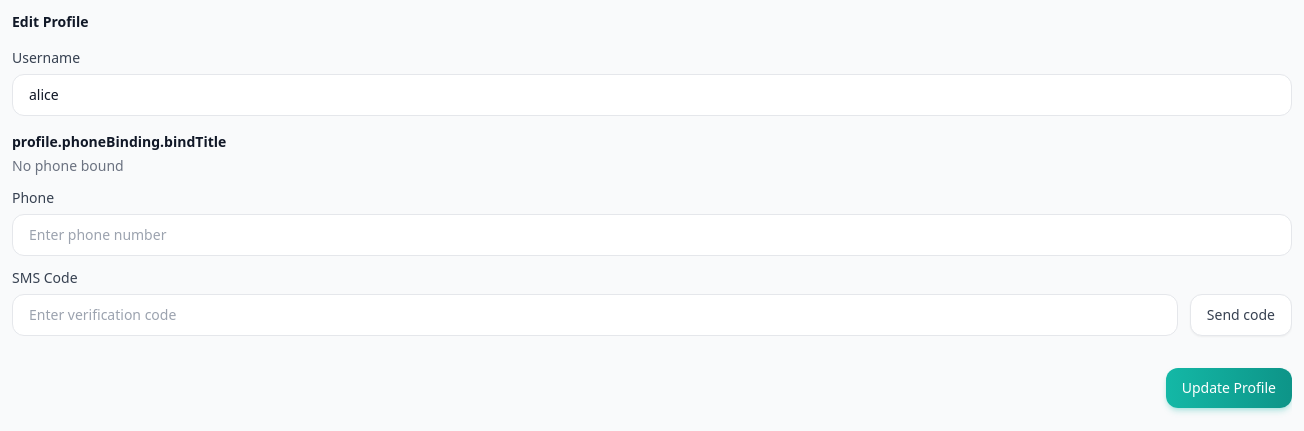
Scenario: ProfileEditForm › starts a 60 second cooldown after sending phone binding code successfully
The width and height of the screenshot is (1304, 431).
Type "13800138000" into the field labelled "Phone" at (652, 235), box x1=12 y1=214 x2=1292 y2=256
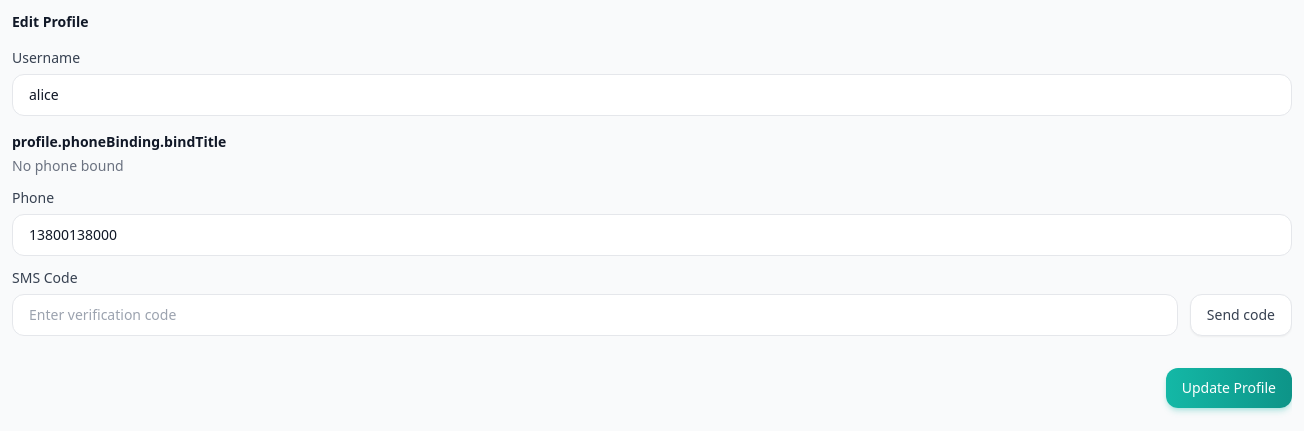
Click the button with test id "profile-phone-send-code" at (1241, 315), box x1=1190 y1=294 x2=1292 y2=336
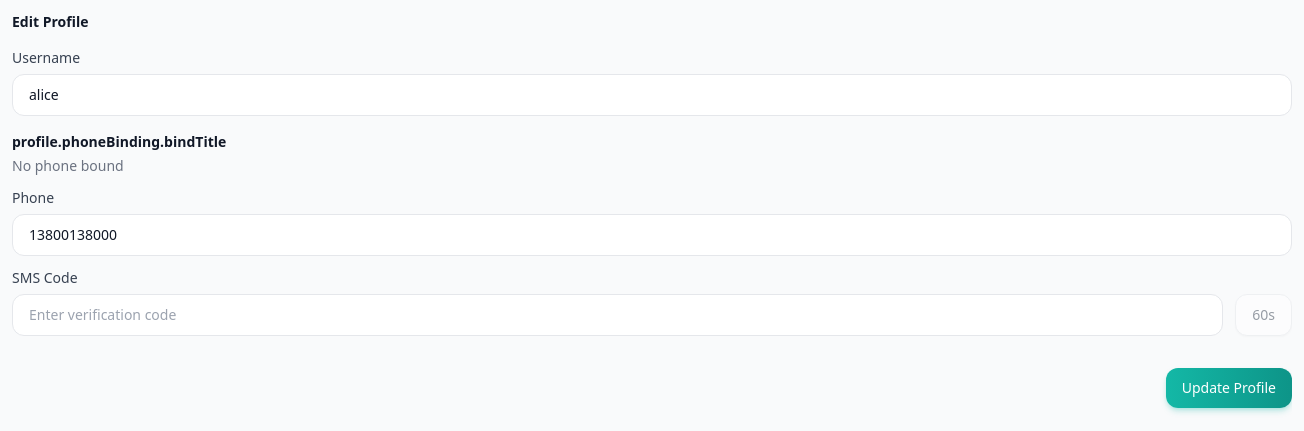
Result: the button with test id "profile-phone-send-code" reads "60s" at x1=1235 y1=294 x2=1292 y2=336
